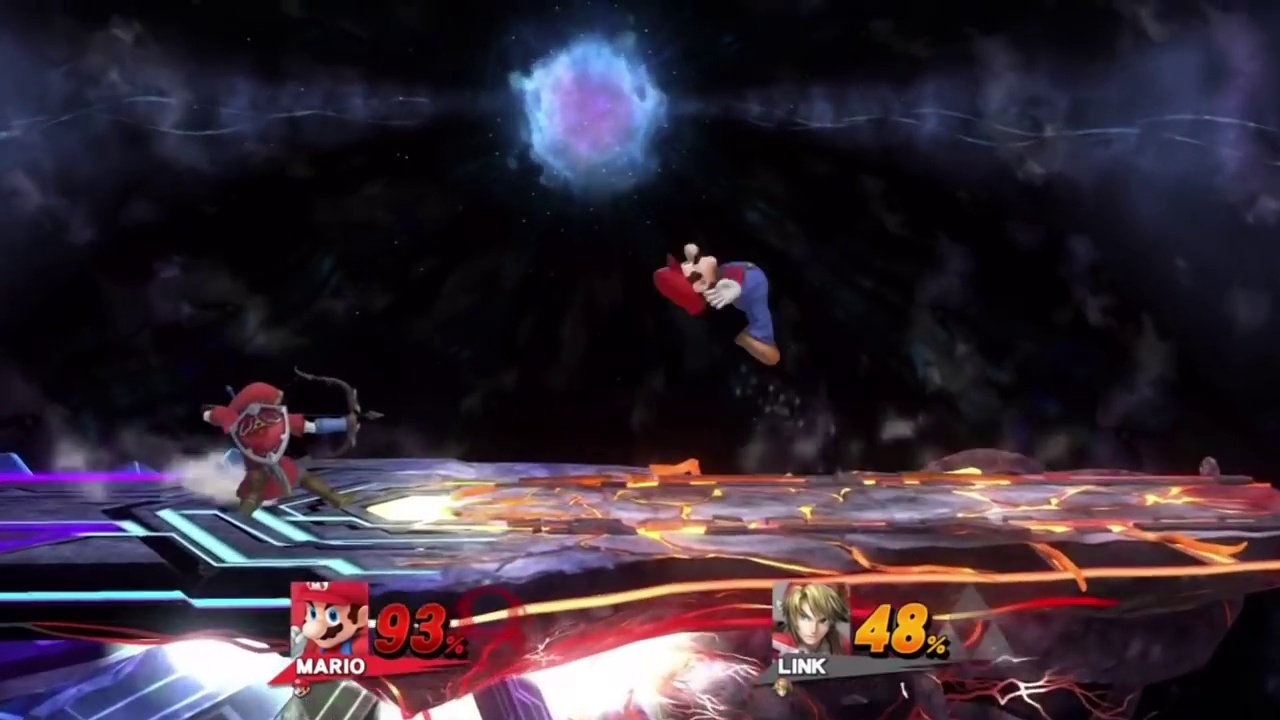Mario: (649, 241, 786, 373)
